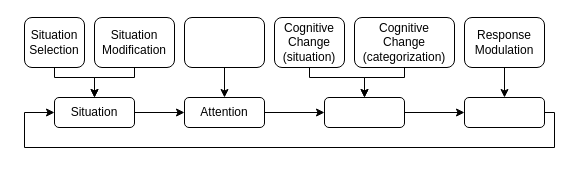
This 580x173 diagram has some shape labels left out. The centre of each missing label's shape, as x and y in pixels:
Appraisal: the point at 364,112
Attentional Deployment: the point at 224,42
Response: the point at 504,112
